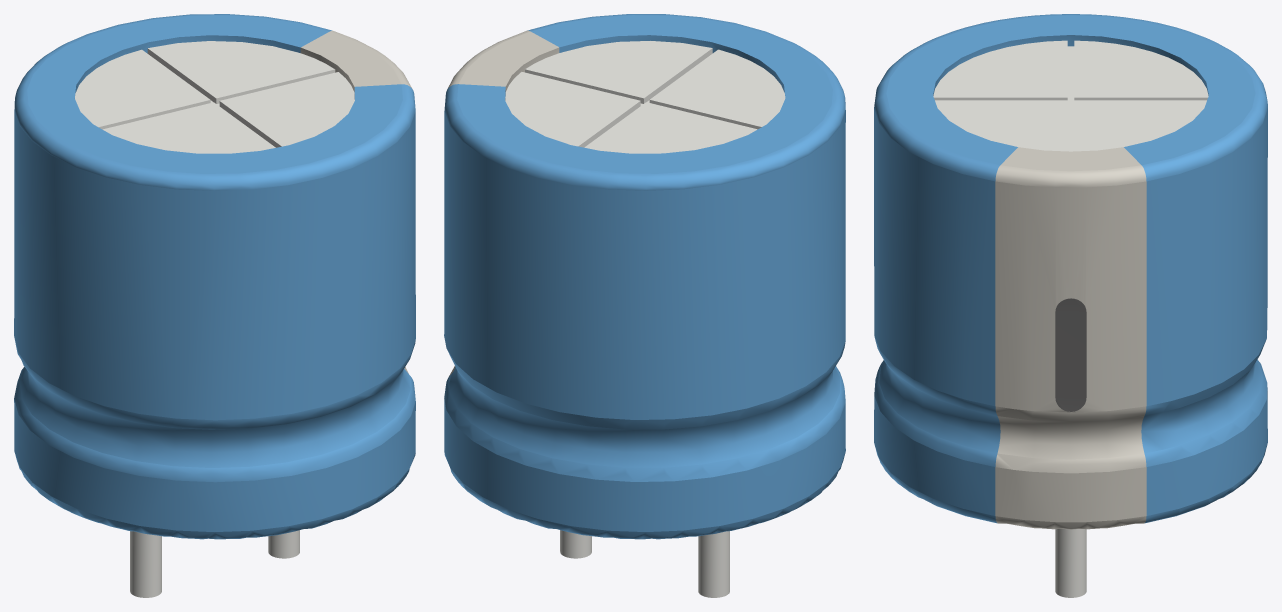
File: capacitor_radial.glb
The picture shows the model from 3 angles, left to right: view 1: azimuth 30°, elevation 25°; view 2: azimuth 150°, elevation 25°; view 3: azimuth 270°, elevation 25°; orthographic projection.
Size of the model in its own units: 6.29 by 8.3 by 6.29.
